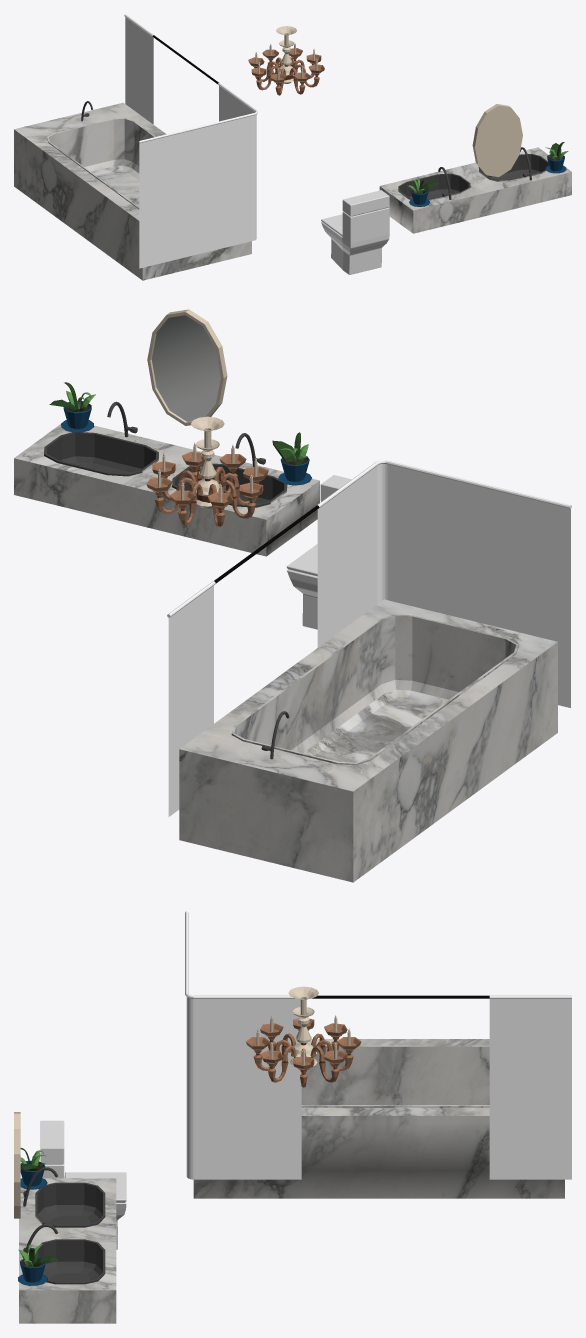
File: cesuo.fbx
The picture shows the model from 3 angles, top to bottom: view 1: azimuth 30°, elevation 25°; view 2: azimuth 150°, elevation 25°; view 3: azimuth 270°, elevation 25°; orthographic projection. The views are drawn at different scales.
Visible parts, largest first — view 1: 柱体.007, water tap.006, water tap.007, 立方体.284, 圆环.191, light.006, 球体.008, 球体.018; view 2: water tap.006, 柱体.007, water tap.007, 圆环.191, light.006, 立方体.284, 球体.008, 球体.018; view 3: 柱体.007, water tap.006, water tap.007, light.006, 立方体.284, 球体.018, 球体.008, 圆环.191, 立方体.285.
Part boxes in pixels (bbox=[...]): 柱体.007: bbox=[124, 14, 257, 268]; water tap.006: bbox=[14, 101, 251, 280]; water tap.007: bbox=[379, 147, 571, 233]; 立方体.284: bbox=[321, 190, 389, 274]; 圆环.191: bbox=[472, 104, 522, 177]; light.006: bbox=[248, 26, 324, 95]; 球体.008: bbox=[407, 177, 438, 206]; 球体.018: bbox=[545, 142, 568, 173]; water tap.006: bbox=[179, 599, 557, 882]; 柱体.007: bbox=[167, 460, 571, 816]; water tap.007: bbox=[14, 401, 319, 556]; 圆环.191: bbox=[147, 309, 227, 425]; light.006: bbox=[146, 416, 268, 527]; 立方体.284: bbox=[287, 475, 351, 629]; 球体.008: bbox=[272, 432, 311, 485]; 球体.018: bbox=[49, 382, 95, 432]; 柱体.007: bbox=[185, 911, 571, 1179]; water tap.006: bbox=[193, 1039, 564, 1198]; water tap.007: bbox=[19, 1167, 116, 1323]; light.006: bbox=[246, 986, 361, 1087]; 立方体.284: bbox=[40, 1120, 126, 1249]; 球体.018: bbox=[18, 1244, 58, 1285]; 球体.008: bbox=[20, 1148, 47, 1189]; 圆环.191: bbox=[14, 1112, 20, 1218]; 立方体.285: bbox=[65, 1172, 126, 1202].
Size of the model in its own units: 1022 by 463 by 913.
Materials: 13 (2 with a texture image).
